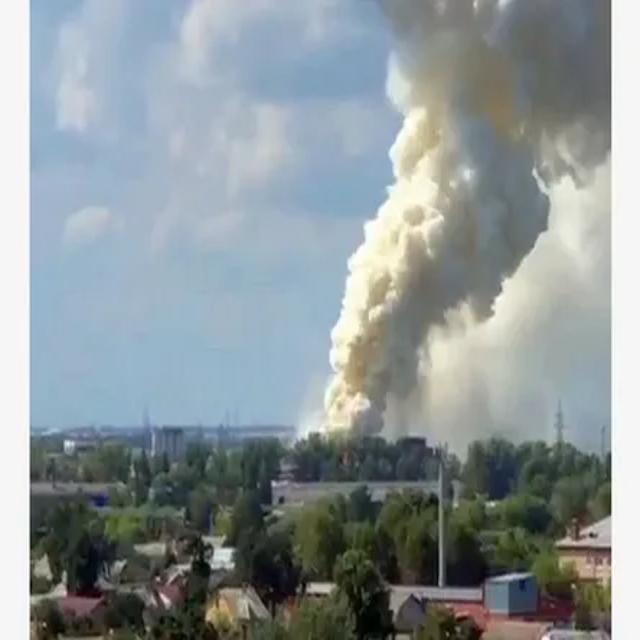Smoke: (325, 0, 613, 430)
